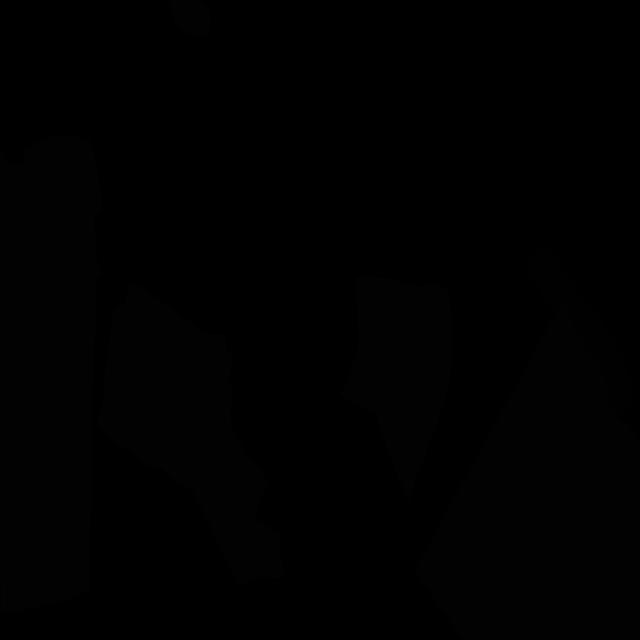cardboard: (415, 305, 640, 640), (0, 135, 102, 612), (96, 282, 234, 490), (340, 276, 453, 504), (190, 382, 284, 586), (168, 0, 212, 37)
rigid_plastic: (527, 247, 636, 421)
